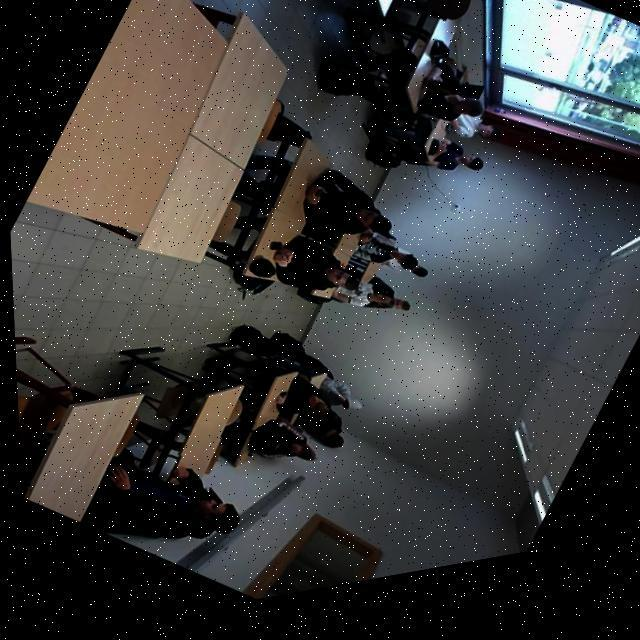phone_use: (276, 169, 418, 298), (404, 64, 480, 168), (344, 229, 425, 289), (292, 394, 342, 446), (424, 137, 482, 169)
